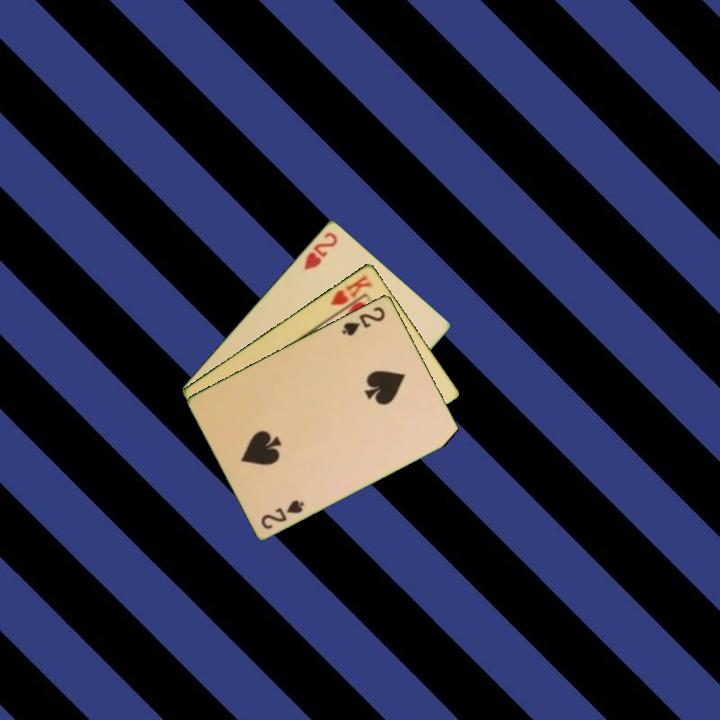2h: (300, 228, 340, 273)
2s: (257, 496, 307, 532), (338, 303, 388, 338)
Kh: (327, 270, 375, 317)
